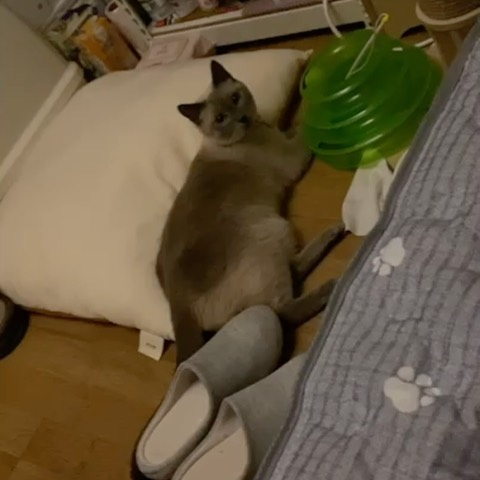cat: (168, 55, 264, 151)
